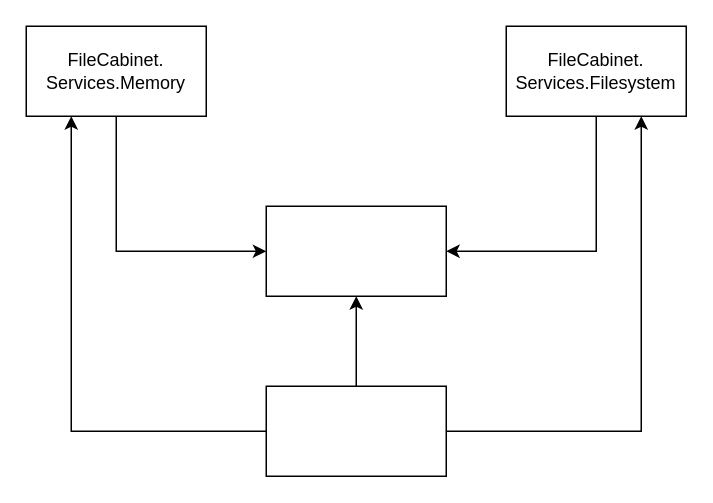
The diagram is 713 pixels wide and 503 high, and some of its shapes have lost their labels. The shapes that lost their labels are listed below. From the top down, each one's box as (x1, y1, x2, y2) in pixels, then its label:
(265, 205, 446, 296): FileCabinet.Services
(265, 385, 446, 476): FileCabinetApp
